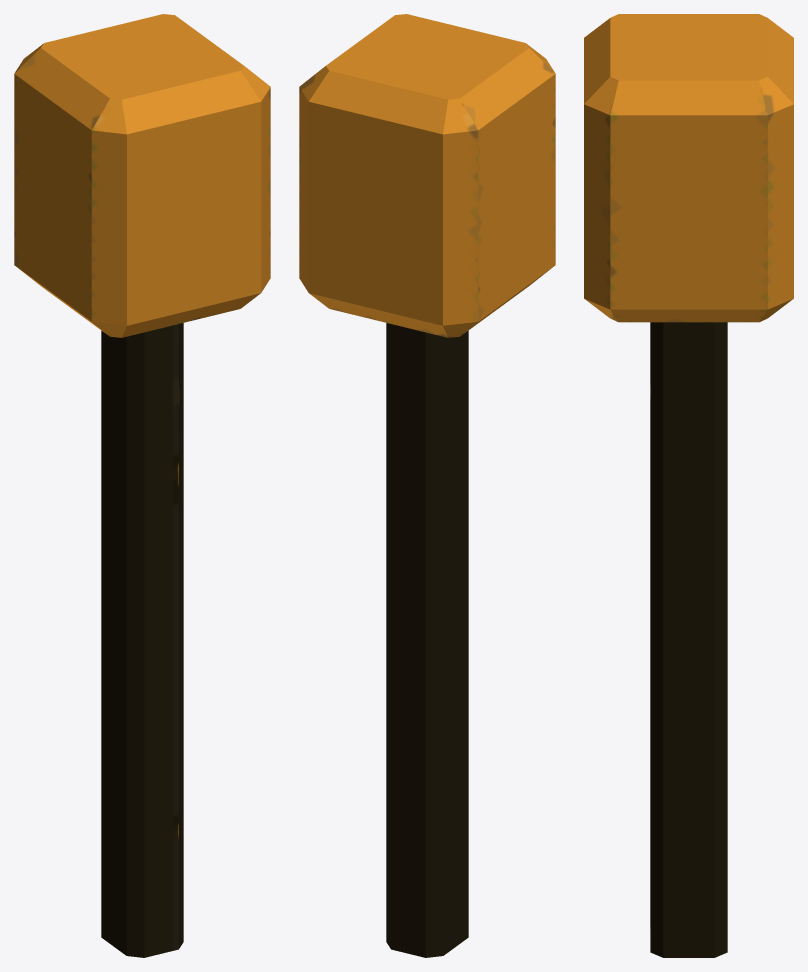
The model's file is CapturePointPole.fbx.
3 views of the same model, side by side, from view 1: azimuth 30°, elevation 25°; view 2: azimuth 150°, elevation 25°; view 3: azimuth 270°, elevation 25° (orthographic).
Parts seen in each view (by area): view 1: CapturePointPole; view 2: CapturePointPole; view 3: CapturePointPole.
Boxes of the visible parts, <box> form: CapturePointPole: <box>14,14,270,957</box>; CapturePointPole: <box>299,14,555,957</box>; CapturePointPole: <box>584,14,793,957</box>.
Size of the model in its own units: 64 by 302 by 64.
